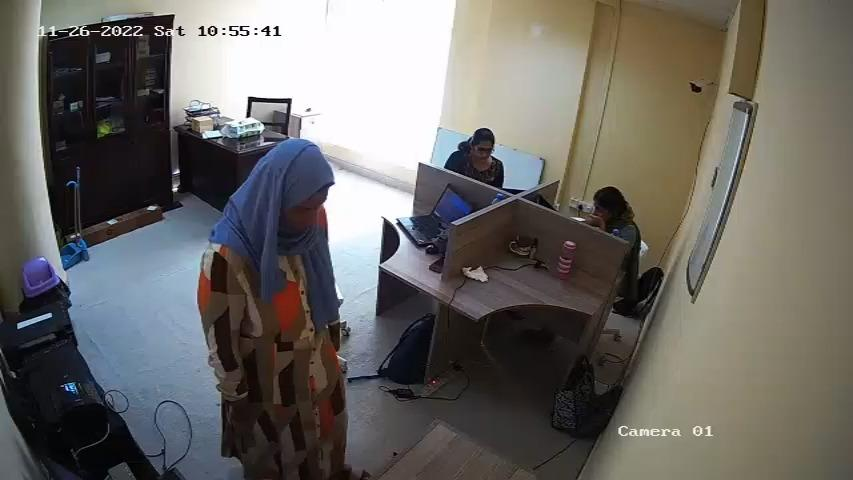no_apron: (234, 245, 331, 474)
